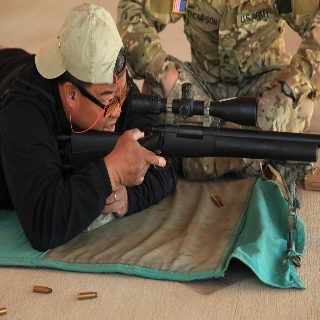rifle: (69, 82, 320, 162)
